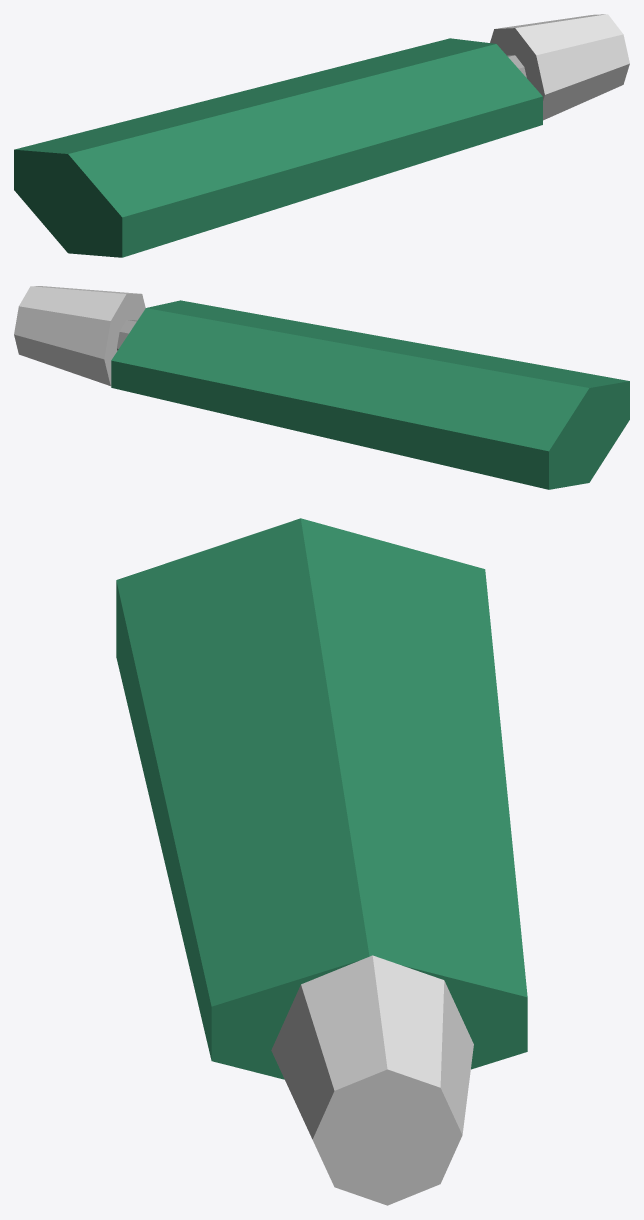
Rendered from toothpaste.fbx.
The picture shows the model from 3 angles, top to bottom: view 1: azimuth 30°, elevation 25°; view 2: azimuth 150°, elevation 25°; view 3: azimuth 270°, elevation 25°; orthographic projection. The views are drawn at different scales.
Parts seen in each view (by area): view 1: pCube148; view 2: pCube148; view 3: pCube148.
Part boxes in pixels (<box>): pCube148: <box>14,14,629,257</box>; pCube148: <box>14,286,629,489</box>; pCube148: <box>116,518,527,1205</box>.
Size of the model in its own units: 0.6424 by 0.1068 by 0.2099.
